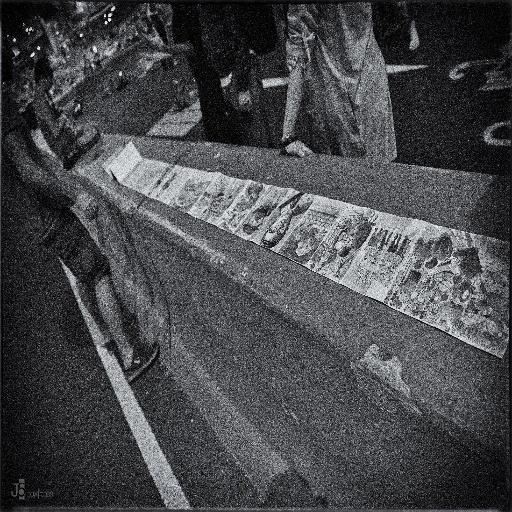hand: (74, 192, 100, 223), (282, 136, 314, 160), (139, 22, 164, 50), (137, 51, 156, 79), (238, 90, 253, 119), (64, 99, 75, 114)
